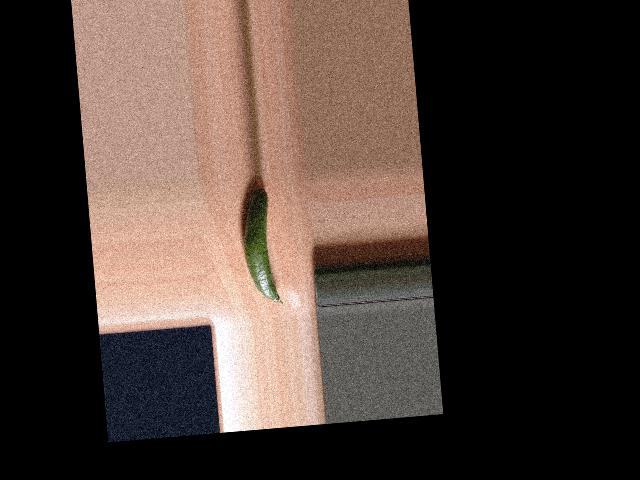cucumber: (238, 186, 282, 307)
